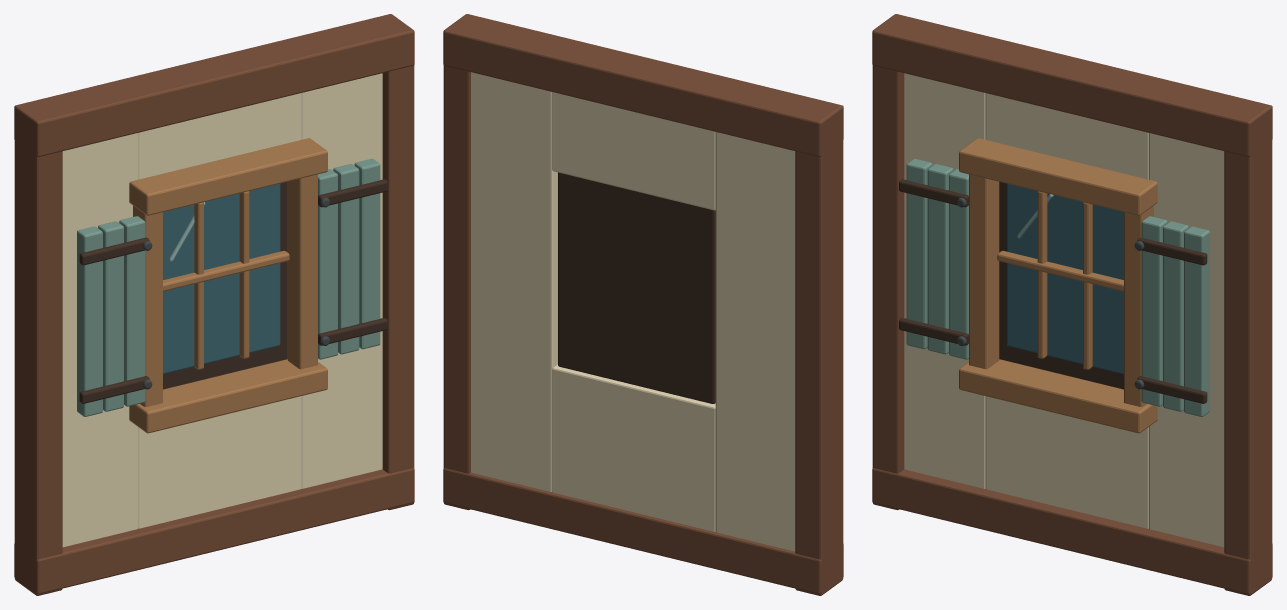
The model's file is wall_window_2m.glb.
3 renders of one model, left to right at view 1: azimuth 30°, elevation 25°; view 2: azimuth 150°, elevation 25°; view 3: azimuth 330°, elevation 25°, orthographic.
Parts seen in each view (by area): view 1: wall_window_2m__structure, wall_window_2m__finish; view 2: wall_window_2m__finish, wall_window_2m__structure; view 3: wall_window_2m__structure, wall_window_2m__finish.
Part boxes in pixels (x1,y1,x2,y2): wall_window_2m__structure: [14, 14, 414, 595]; wall_window_2m__finish: [62, 73, 382, 547]; wall_window_2m__finish: [471, 72, 795, 551]; wall_window_2m__structure: [443, 14, 843, 595]; wall_window_2m__structure: [872, 14, 1272, 595]; wall_window_2m__finish: [904, 73, 1224, 547].
Bounding box in the file's own units: 2 × 2.4 × 0.325.
